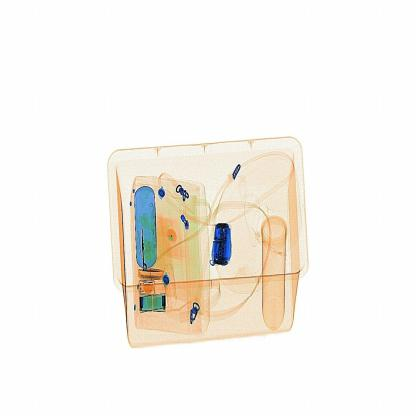scissors: (207, 214, 241, 273)
